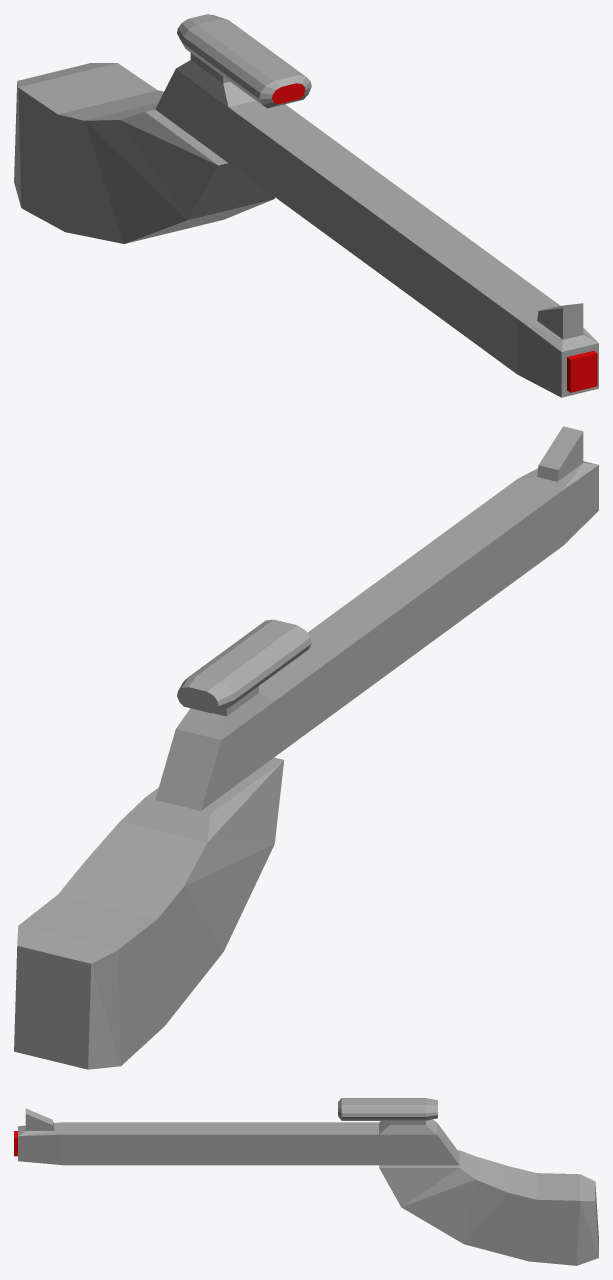
Rendered from Rifle.fbx.
The picture shows the model from 3 angles, top to bottom: view 1: azimuth 30°, elevation 25°; view 2: azimuth 150°, elevation 25°; view 3: azimuth 270°, elevation 25°; orthographic projection. The views are drawn at different scales.
Visible parts, largest first — view 1: M_Rifle; view 2: M_Rifle; view 3: M_Rifle.
Part boxes in pixels (box(x1,y1,x2,y2)): M_Rifle: box(14, 14, 598, 397); M_Rifle: box(14, 426, 598, 1069); M_Rifle: box(14, 1098, 598, 1265).
Size of the model in its own units: 33.96 by 89.36 by 314.
